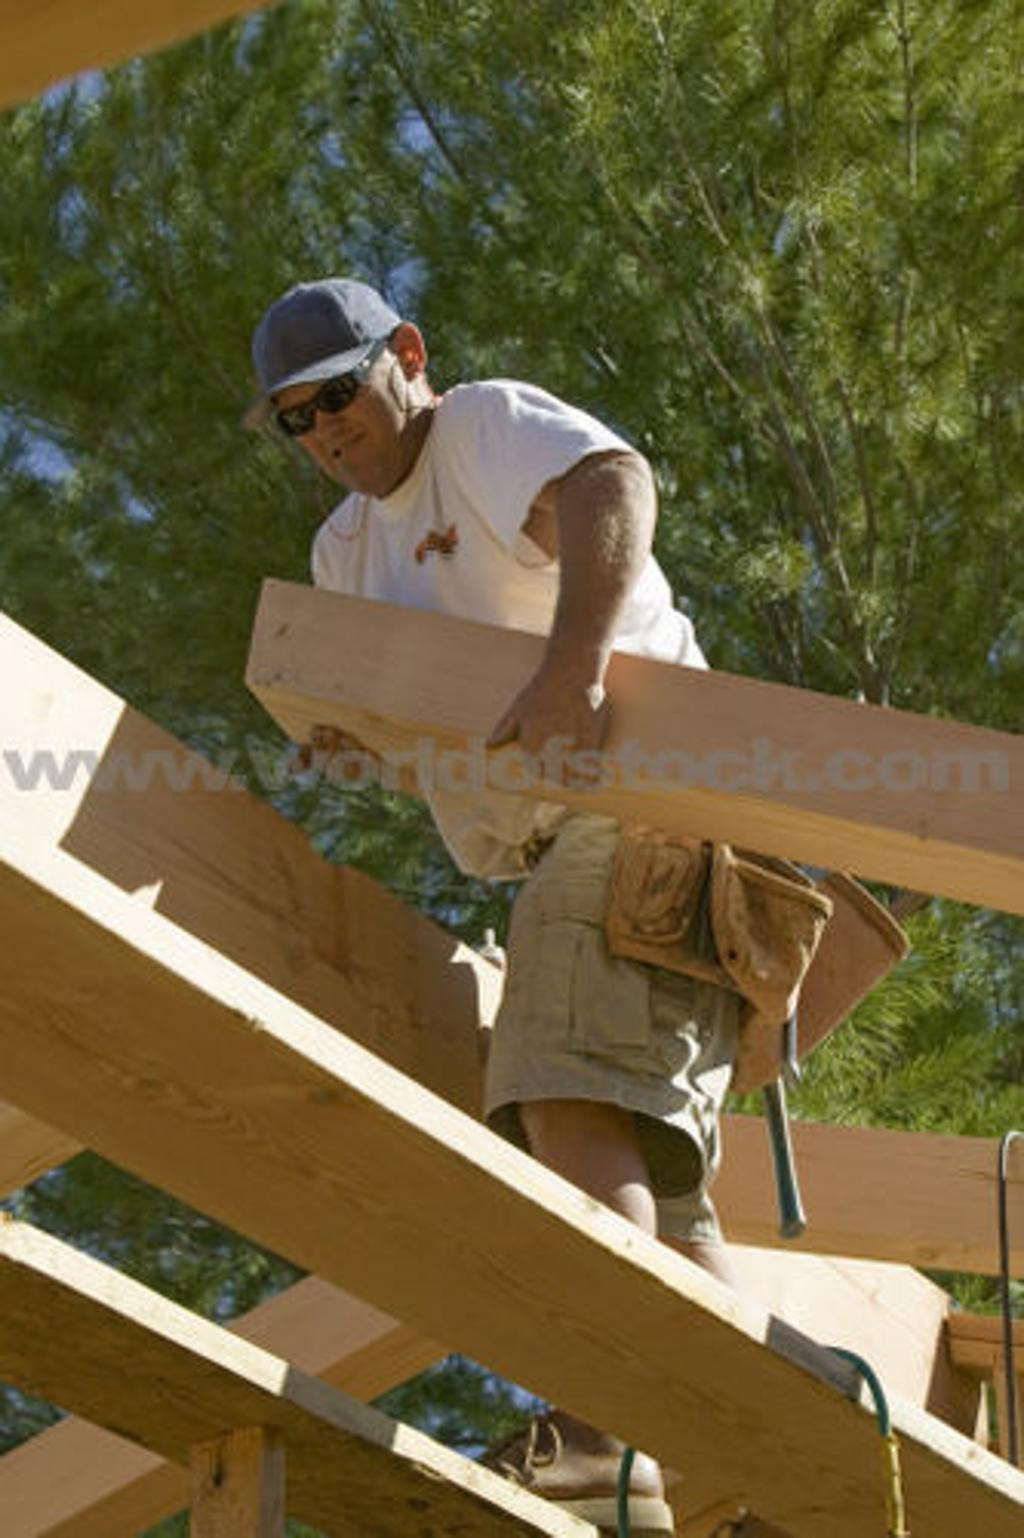face: (286, 325, 409, 493)
